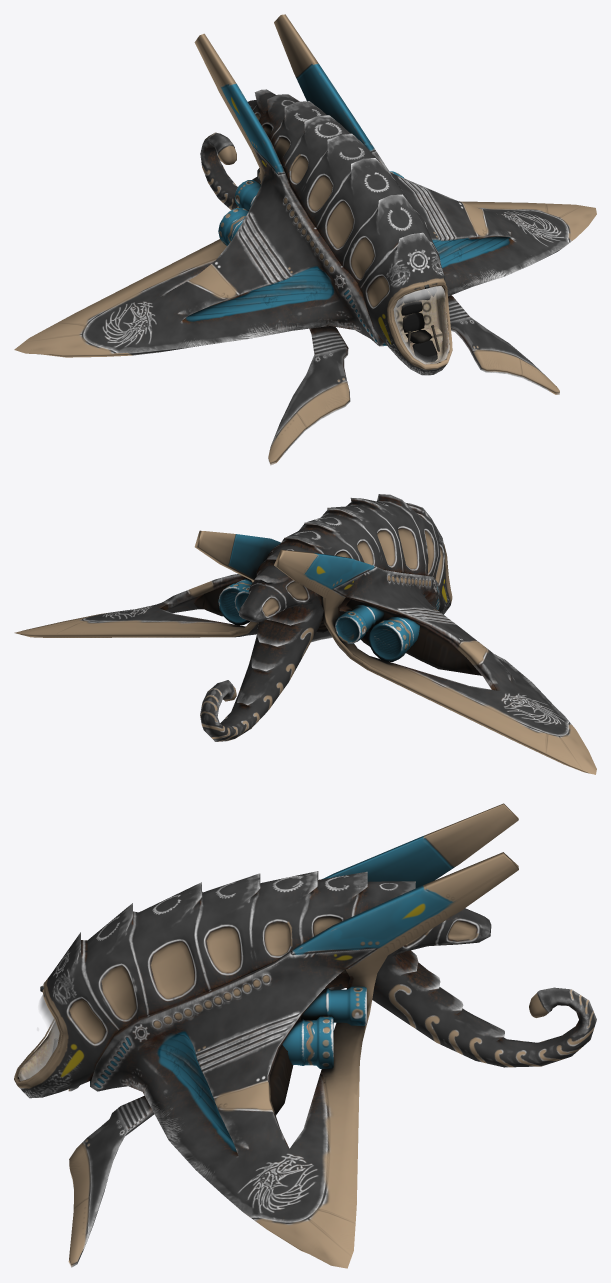
Rendered from Sonda Corrosiva.glb.
3 views of the same model, one above another, from view 1: azimuth 30°, elevation 25°; view 2: azimuth 150°, elevation 25°; view 3: azimuth 270°, elevation 25° (orthographic). The views are drawn at different scales.
Parts seen in each view (by area): view 1: export:WingR, export:Ship, export:WingL1, export:LilWingR, export:LilWingL, polySurface1, polySurface2, export:reacRbig; view 2: export:Ship, export:WingR, export:WingL1, export:UnderWingR, export:reacRbig, export:ReacRlit, export:reacLBig, export:UnderWingL2; view 3: export:WingL1, export:Ship, export:WingR, export:LilWingL, export:reacLBig, export:ReacLlit, polySurface1, export:UnderWingL2, polySurface2.
Boxes of the visible parts, box(x1,y1,x2,y2) form: export:WingR: box(14, 33, 386, 357); export:Ship: box(200, 89, 449, 375); export:WingL1: box(274, 14, 596, 296); export:LilWingR: box(268, 326, 350, 465); export:LilWingL: box(448, 295, 559, 394); polySurface1: box(390, 284, 452, 367); polySurface2: box(394, 286, 449, 363); export:reacRbig: box(218, 208, 248, 245); export:Ship: box(200, 494, 452, 741); export:WingR: box(274, 549, 596, 774); export:WingL1: box(14, 530, 280, 637); export:UnderWingR: box(346, 599, 481, 675); export:reacRbig: box(368, 615, 419, 661); export:ReacRlit: box(334, 603, 384, 643); export:reacLBig: box(218, 579, 252, 625); export:UnderWingL2: box(194, 582, 236, 616); export:WingL1: box(90, 852, 518, 1268); export:Ship: box(17, 871, 596, 1098); export:WingR: box(322, 803, 518, 989); export:LilWingL: box(68, 1095, 154, 1267); export:reacLBig: box(282, 1016, 333, 1068); export:ReacLlit: box(301, 986, 366, 1025); polySurface1: box(14, 991, 62, 1084); export:UnderWingL2: box(270, 1017, 300, 1115); polySurface2: box(19, 995, 59, 1080).
Size of the model in its own units: 46.93 by 21.58 by 32.5.
Materials: 1 (1 with a texture image).
